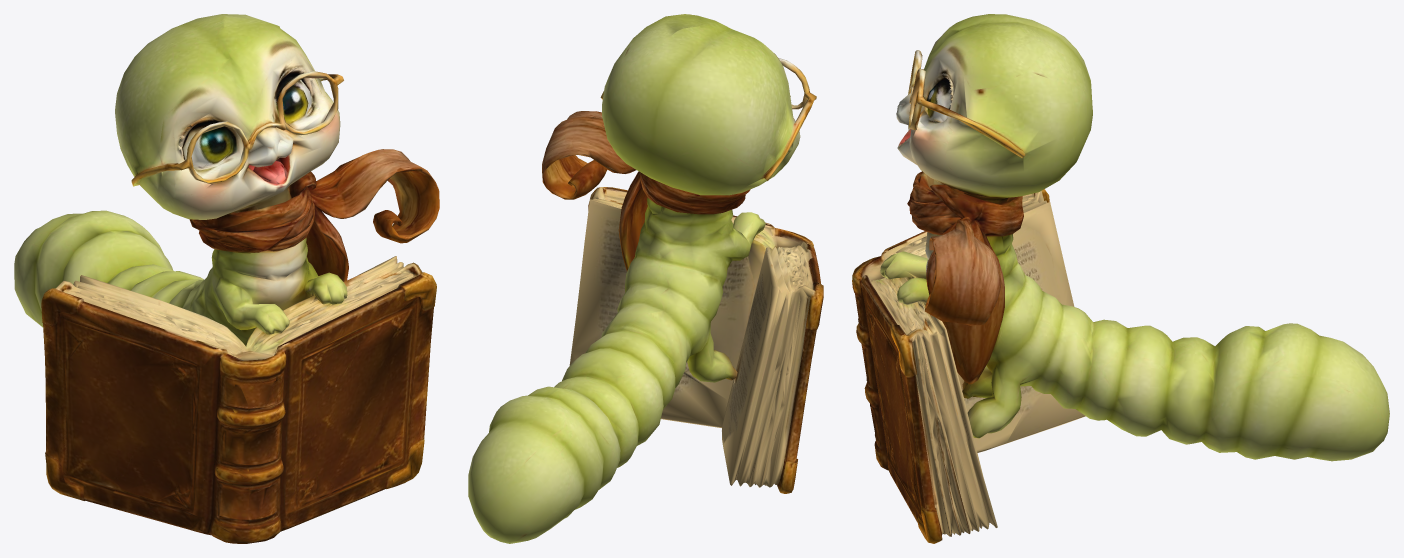
File: bookworm.glb
3 renders of one model, left to right at view 1: azimuth 30°, elevation 25°; view 2: azimuth 150°, elevation 25°; view 3: azimuth 270°, elevation 25°, orthographic. The views are drawn at different scales.
Parts seen in each view (by area): view 1: node_0; view 2: node_0; view 3: node_0.
Part boxes in pixels (x1,y1,x2,y2): node_0: (14, 14, 439, 543); node_0: (468, 14, 823, 543); node_0: (852, 14, 1389, 543).
Bounding box in the file's own units: 0.7636 × 1 × 1.08.
1 material, 1 textured.
